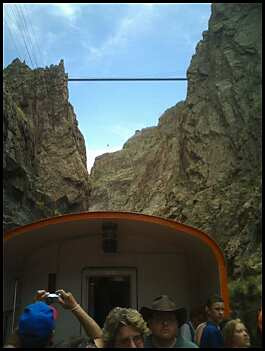person: (1, 289, 105, 351)
